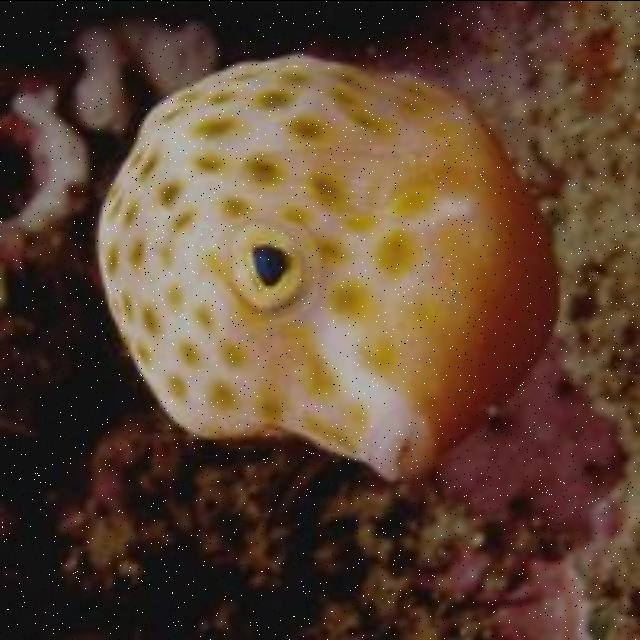Mulut: (304, 380, 494, 528)
